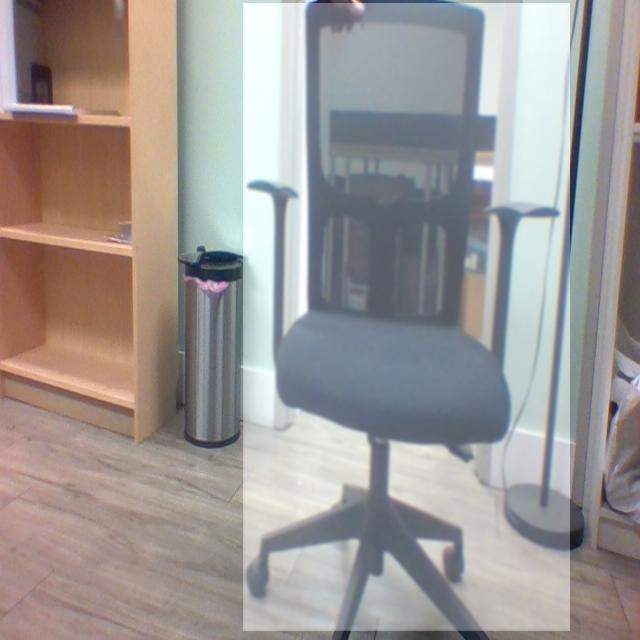chair: (247, 0, 559, 640)
